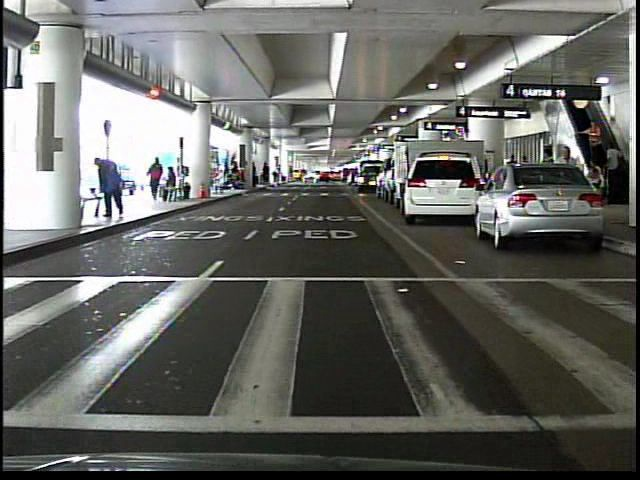person: (94, 152, 129, 222), (580, 117, 607, 168), (605, 140, 624, 193), (212, 165, 227, 199), (274, 162, 287, 190)
